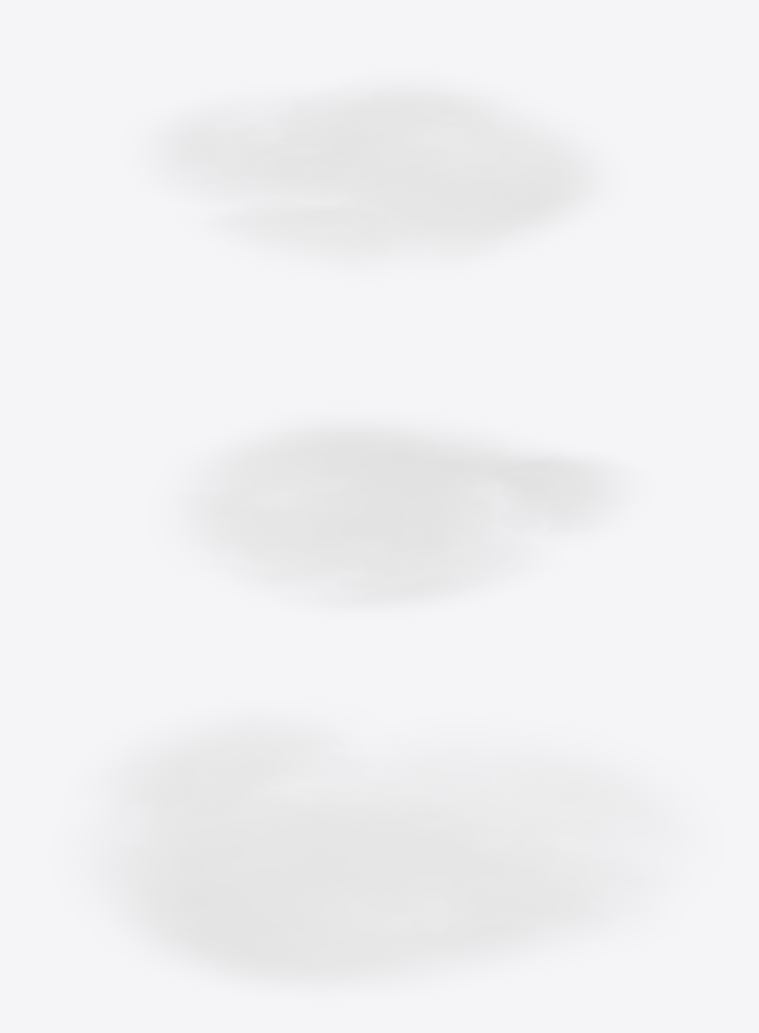
File: Cloud.glb
3 views of the same model, one above another, from view 1: azimuth 30°, elevation 25°; view 2: azimuth 150°, elevation 25°; view 3: azimuth 270°, elevation 25° (orthographic). The views are drawn at different scales.
Parts seen in each view (by area): view 1: Cloud.003; view 2: Cloud.003; view 3: Cloud.003.
Boxes of the visible parts, left/top/right/bottom form: Cloud.003: left=141, top=78, right=611, bottom=274; Cloud.003: left=169, top=415, right=635, bottom=612; Cloud.003: left=77, top=709, right=696, bottom=992.
Bounding box in the file's own units: 1 × 0.0531 × 1.
1 material, 1 textured.
